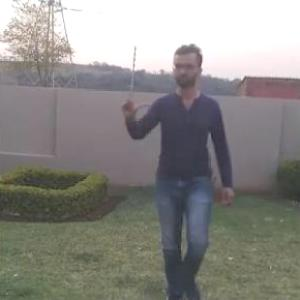land_hand: (115, 79, 148, 119)
